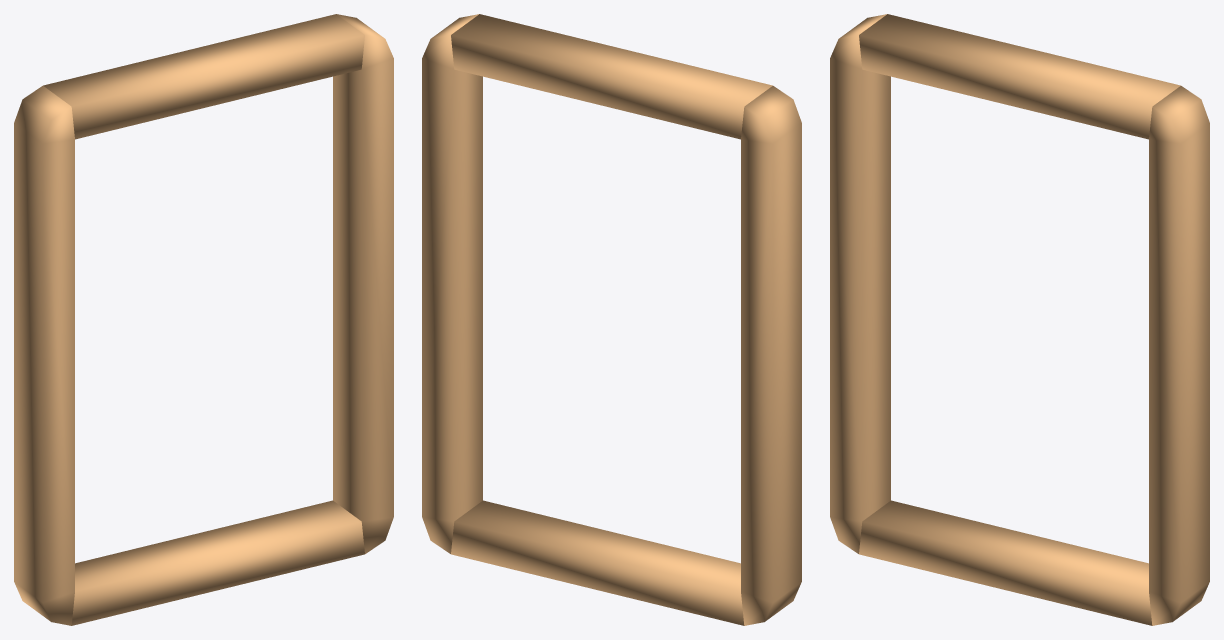
File: edgeCollider.obj
3 views of the same model, side by side, from view 1: azimuth 30°, elevation 25°; view 2: azimuth 150°, elevation 25°; view 3: azimuth 330°, elevation 25° (orthographic).
Parts seen in each view (by area): view 1: cuttingBoard.003_cuttingBoard.000, cuttingBoard.003_cuttingBoard.004, cuttingBoard.003_cuttingBoard.002, cuttingBoard.003_cuttingBoard.001; view 2: cuttingBoard.003_cuttingBoard.000, cuttingBoard.003_cuttingBoard.004, cuttingBoard.003_cuttingBoard.002, cuttingBoard.003_cuttingBoard.001; view 3: cuttingBoard.003_cuttingBoard.004, cuttingBoard.003_cuttingBoard.000, cuttingBoard.003_cuttingBoard.002, cuttingBoard.003_cuttingBoard.001.
Boxes of the visible parts, bbox=[...] form: cuttingBoard.003_cuttingBoard.000: bbox=[14, 86, 74, 625]; cuttingBoard.003_cuttingBoard.004: bbox=[333, 14, 393, 553]; cuttingBoard.003_cuttingBoard.002: bbox=[43, 14, 364, 139]; cuttingBoard.003_cuttingBoard.001: bbox=[71, 500, 364, 625]; cuttingBoard.003_cuttingBoard.000: bbox=[741, 86, 801, 625]; cuttingBoard.003_cuttingBoard.004: bbox=[422, 14, 482, 553]; cuttingBoard.003_cuttingBoard.002: bbox=[451, 14, 772, 139]; cuttingBoard.003_cuttingBoard.001: bbox=[451, 500, 744, 625]; cuttingBoard.003_cuttingBoard.004: bbox=[1149, 86, 1209, 625]; cuttingBoard.003_cuttingBoard.000: bbox=[830, 14, 890, 553]; cuttingBoard.003_cuttingBoard.002: bbox=[859, 14, 1180, 139]; cuttingBoard.003_cuttingBoard.001: bbox=[859, 500, 1152, 625].
Bounding box in the file's own units: 0.435 × 0.615 × 0.0618.
